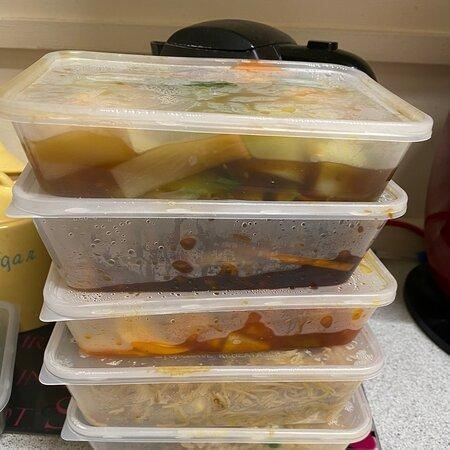plastic: (0, 48, 431, 215), (9, 182, 406, 343), (40, 322, 382, 449)
